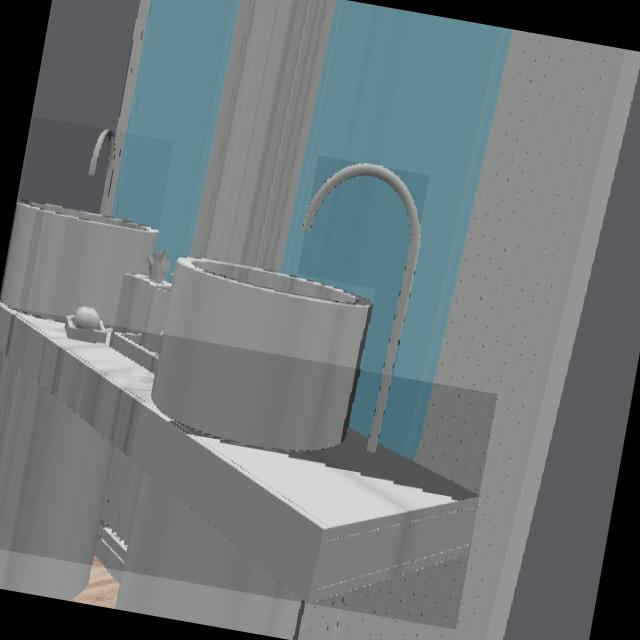shelf: (0, 307, 478, 603)
washbasin: (152, 259, 372, 450), (306, 167, 419, 452), (0, 130, 156, 327)
